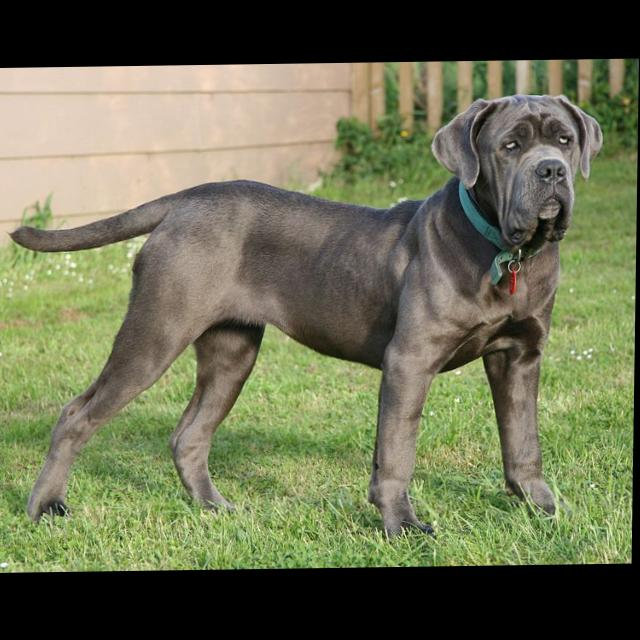mastino_napoletano: (5, 94, 606, 547)
